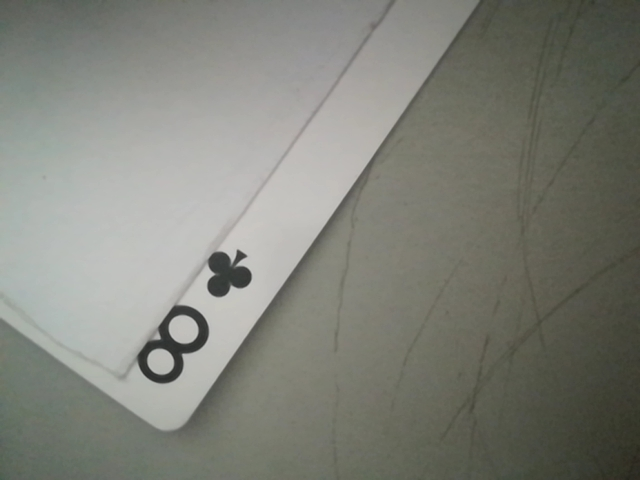mh 8: (119, 238, 258, 409)
